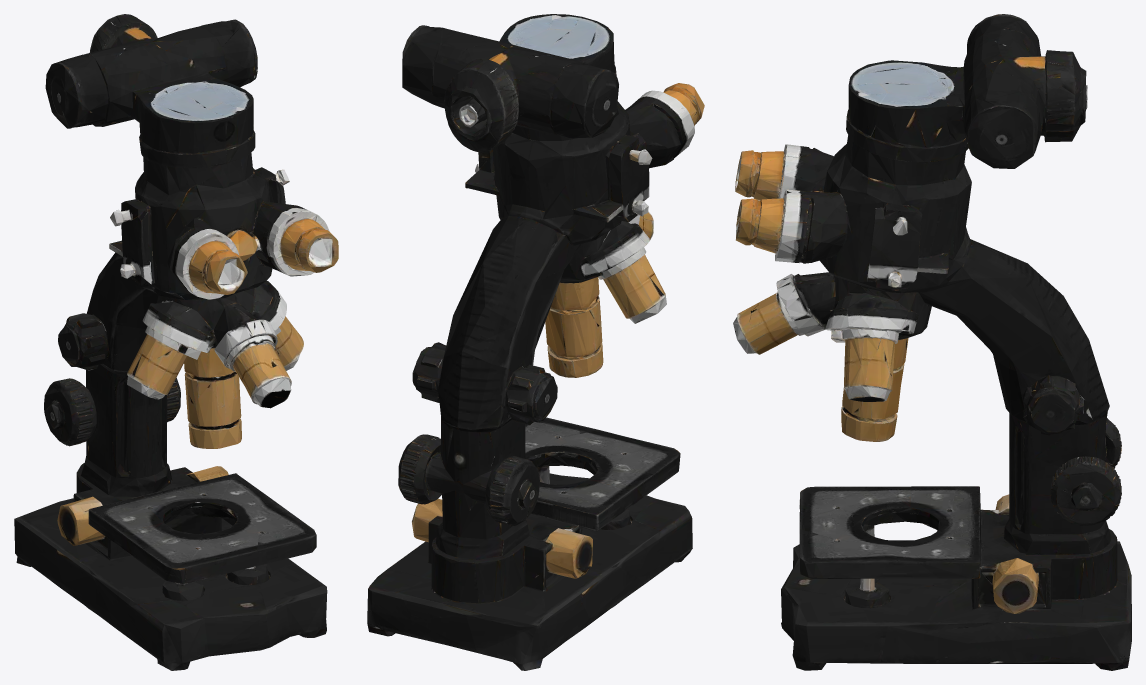
3 views of the same model, side by side, from view 1: azimuth 30°, elevation 25°; view 2: azimuth 150°, elevation 25°; view 3: azimuth 270°, elevation 25° (orthographic). The views are drawn at different scales.
Bounding box in the file's own units: 0.685 × 1.9 × 1.19.
1 material, 1 textured.
